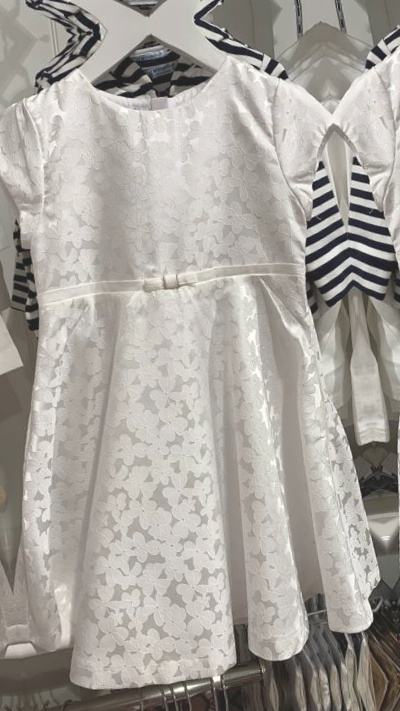Dress: (0, 20, 395, 700), (326, 0, 400, 653), (0, 67, 21, 711), (0, 0, 311, 35), (37, 707, 400, 711)
